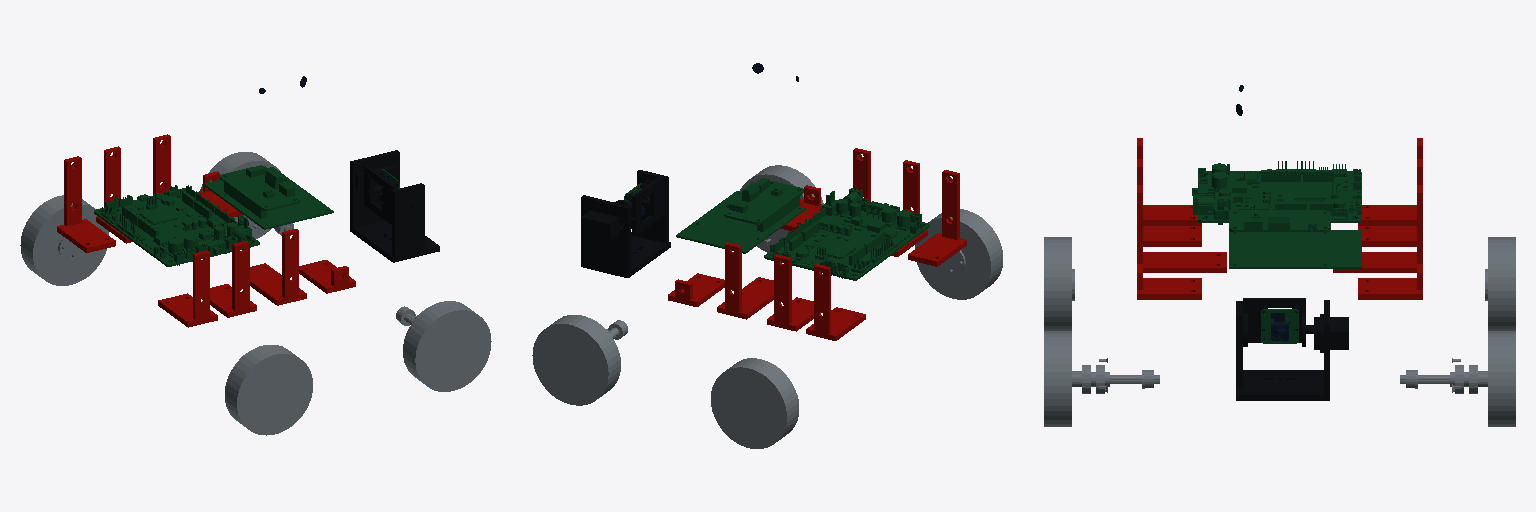
URDF robot description (skala):
<?xml version='1.0' encoding='utf-8'?>
<robot name="skala">
  <link name="base_footprint" />
  <link name="base_link">
    <visual>
      <geometry>
        <mesh filename="package://skala_sim/models/skala/meshes/base_link_black.stl" />
      </geometry>
      <material name="base_link_black">
        <color rgba="0.075 0.085 0.1 1" />
      </material>
    </visual>
    <visual>
      <geometry>
        <mesh filename="package://skala_sim/models/skala/meshes/base_link_board.stl" />
      </geometry>
      <material name="base_link_board">
        <color rgba="0.08 0.28 0.16 1" />
      </material>
    </visual>
    <visual>
      <geometry>
        <mesh filename="package://skala_sim/models/skala/meshes/base_link_metal.stl" />
      </geometry>
      <material name="base_link_metal">
        <color rgba="0.45 0.48 0.5 1" />
      </material>
    </visual>
    <visual>
      <geometry>
        <mesh filename="package://skala_sim/models/skala/meshes/base_link_lens.stl" />
      </geometry>
      <material name="base_link_lens">
        <color rgba="0.07 0.12 0.18 1" />
      </material>
    </visual>
    <visual>
      <geometry>
        <mesh filename="package://skala_sim/models/skala/meshes/base_link_red.stl" />
      </geometry>
      <material name="base_link_red">
        <color rgba="0.58 0.065 0.045 1" />
      </material>
    </visual>
  </link>
  <joint name="base_link_fixed" type="fixed">
    <parent link="base_footprint" />
    <child link="base_link" />
    <origin xyz="0 0 0.0204111869" rpy="0 0 0" />
  </joint>
  <link name="left_track">
    <visual>
      <geometry>
        <mesh filename="package://skala_sim/models/skala/meshes/left_track_track.stl" />
      </geometry>
      <material name="left_track_track">
        <color rgba="0.11 0.12 0.135 1" />
      </material>
    </visual>
  </link>
  <joint name="left_track_fixed" type="fixed">
    <parent link="base_link" />
    <child link="left_track" />
    <origin xyz="0 0.143 0.02" rpy="0 0 0" />
  </joint>
  <link name="right_track">
    <visual>
      <geometry>
        <mesh filename="package://skala_sim/models/skala/meshes/right_track_track.stl" />
      </geometry>
      <material name="right_track_track">
        <color rgba="0.11 0.12 0.135 1" />
      </material>
    </visual>
  </link>
  <joint name="right_track_fixed" type="fixed">
    <parent link="base_link" />
    <child link="right_track" />
    <origin xyz="0 -0.143 0.02" rpy="0 0 0" />
  </joint>
  <link name="camera_pan_link">
    <visual>
      <geometry>
        <mesh filename="package://skala_sim/models/skala/meshes/camera_pan_link_black.stl" />
      </geometry>
      <material name="camera_pan_link_black">
        <color rgba="0.075 0.085 0.1 1" />
      </material>
    </visual>
  </link>
  <joint name="camera_pan_joint" type="revolute">
    <parent link="base_link" />
    <child link="camera_pan_link" />
    <origin xyz="0.108 0 0.033" rpy="0 0 0" />
    <axis xyz="0 0 1" />
    <limit lower="-1.5707963267948966" upper="1.5707963267948966" effort="1" velocity="1.5" />
  </joint>
  <link name="camera_tilt_link">
    <visual>
      <geometry>
        <mesh filename="package://skala_sim/models/skala/meshes/camera_tilt_link_black.stl" />
      </geometry>
      <material name="camera_tilt_link_black">
        <color rgba="0.075 0.085 0.1 1" />
      </material>
    </visual>
    <visual>
      <geometry>
        <mesh filename="package://skala_sim/models/skala/meshes/camera_tilt_link_lens.stl" />
      </geometry>
      <material name="camera_tilt_link_lens">
        <color rgba="0.07 0.12 0.18 1" />
      </material>
    </visual>
    <visual>
      <geometry>
        <mesh filename="package://skala_sim/models/skala/meshes/camera_tilt_link_board.stl" />
      </geometry>
      <material name="camera_tilt_link_board">
        <color rgba="0.08 0.28 0.16 1" />
      </material>
    </visual>
  </link>
  <joint name="camera_tilt_joint" type="revolute">
    <parent link="camera_pan_link" />
    <child link="camera_tilt_link" />
    <origin xyz="0 0 0.039" rpy="0 0 0" />
    <axis xyz="0 1 0" />
    <limit lower="-0.7853981633974483" upper="0.5235987755982988" effort="1" velocity="1.5" />
  </joint>
  <link name="camera_optical_frame" />
  <joint name="camera_optical_frame_fixed" type="fixed">
    <parent link="camera_tilt_link" />
    <child link="camera_optical_frame" />
    <origin xyz="0.008 0 0.002" rpy="-1.57079633 0 -1.57079633" />
  </joint>
  <link name="lidar_link" />
  <joint name="lidar_link_fixed" type="fixed">
    <parent link="base_link" />
    <child link="lidar_link" />
    <origin xyz="0.008 0 0.1885" rpy="0 0 0" />
  </joint>
  <link name="imu_link" />
  <joint name="imu_link_fixed" type="fixed">
    <parent link="base_link" />
    <child link="imu_link" />
    <origin xyz="-0.064 0 0.086" rpy="0 0 0" />
  </joint>
</robot>

--- Facts derived from the render (not from the file) ---
3 views of the same robot in one strip: view 1: azimuth 30°, elevation 25°; view 2: azimuth 150°, elevation 25°; view 3: azimuth 270°, elevation 25° (orthographic).
Robot: skala — 9 links, 8 joints (2 revolute, 6 fixed); root link base_footprint; default pose: every joint at zero.
Visible links, largest first — view 1: base_link, camera_pan_link, camera_tilt_link; view 2: base_link, camera_pan_link, camera_tilt_link; view 3: base_link, camera_pan_link, camera_tilt_link.
Link boxes in pixels (<box>): base_link: <box>20,76,491,435</box>; camera_pan_link: <box>350,150,439,262</box>; camera_tilt_link: <box>364,165,399,224</box>; base_link: <box>532,63,1002,448</box>; camera_pan_link: <box>581,170,670,277</box>; camera_tilt_link: <box>614,175,664,235</box>; base_link: <box>1044,85,1515,426</box>; camera_pan_link: <box>1236,300,1348,400</box>; camera_tilt_link: <box>1243,298,1305,346</box>.
Size in the robot's own frame: 0.2405 by 0.303 by 0.2033 metres.
Meshes: 11 distinct files referenced, 8 mesh visuals loaded (8 binary STL); not drawn: 3 (reference not matched to a file when rendering).
